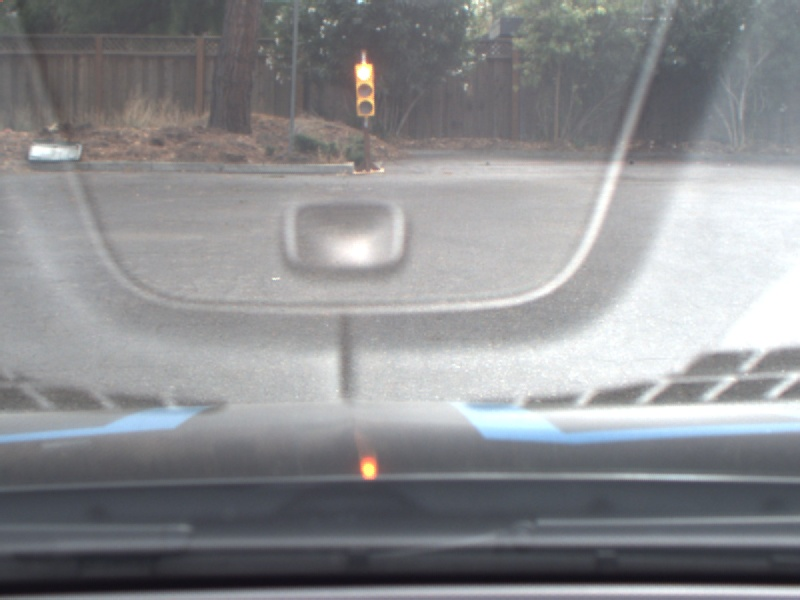red: (353, 60, 378, 119)
